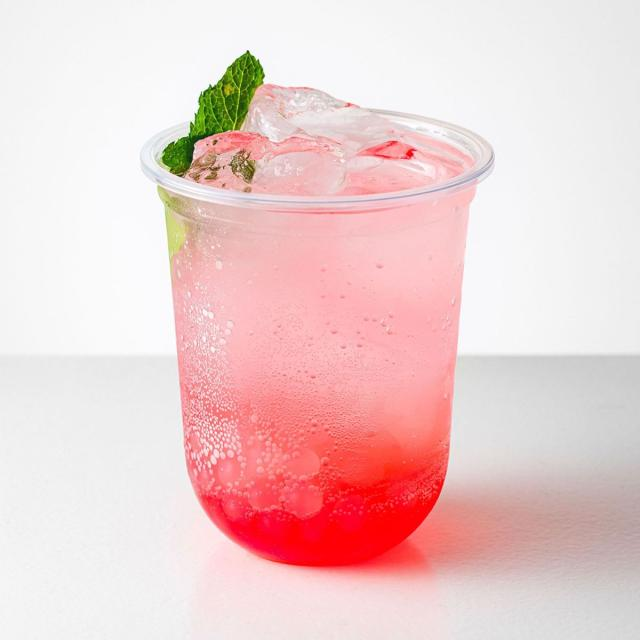plastic cup: (138, 49, 494, 568)
